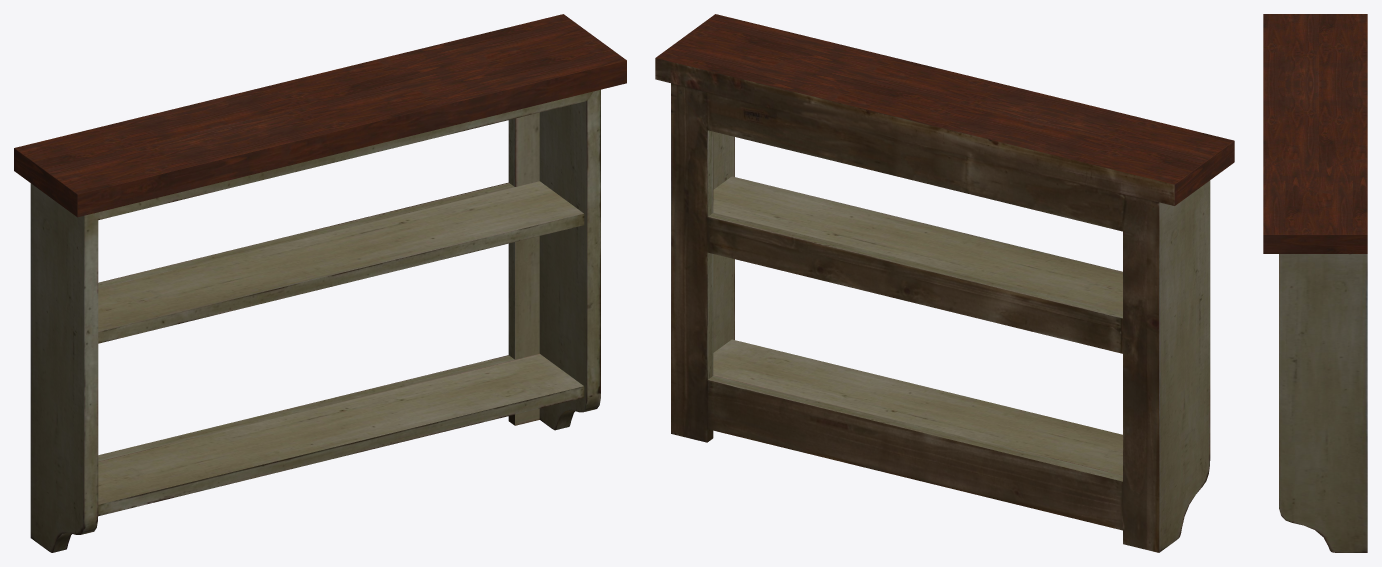
File: example161.gltf
3 renders of one model, left to right at view 1: azimuth 30°, elevation 25°; view 2: azimuth 150°, elevation 25°; view 3: azimuth 270°, elevation 25°, orthographic. The views are drawn at different scales.
Bounding box in the file's own units: 100 × 68.5 × 20.
Materials: 1 (1 with a texture image).
